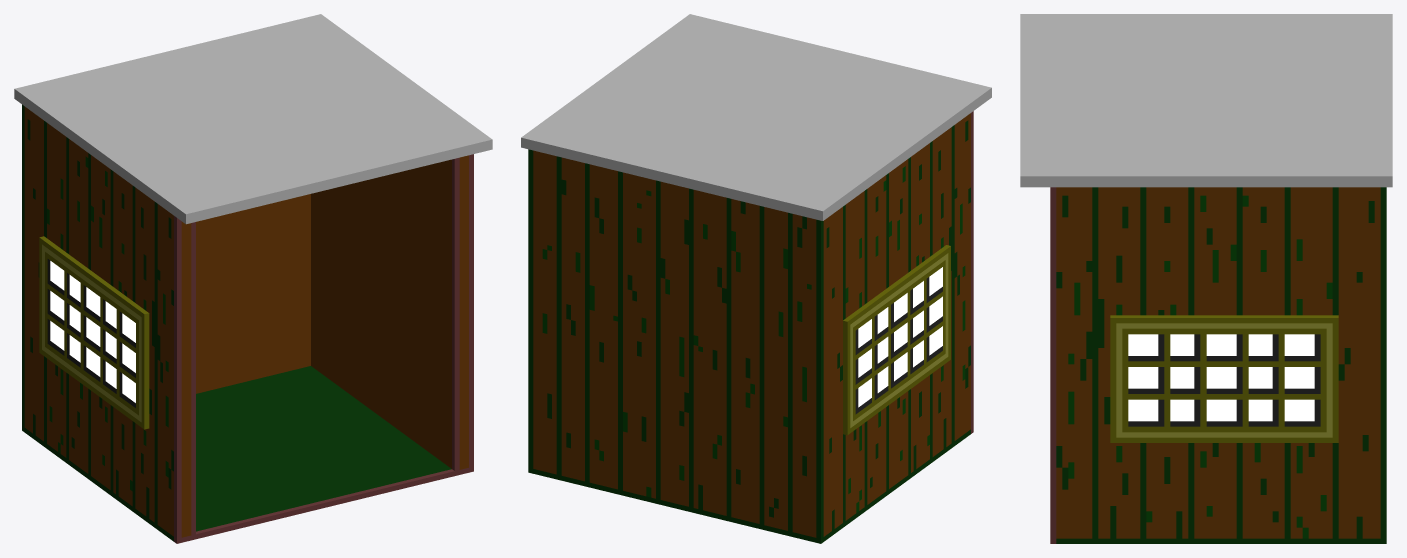
Rendered from typeEight.glb.
3 views of the same model, side by side, from view 1: azimuth 30°, elevation 25°; view 2: azimuth 150°, elevation 25°; view 3: azimuth 270°, elevation 25° (orthographic). The views are drawn at different scales.
Visible parts, largest first — view 1: ObjObject; view 2: ObjObject; view 3: ObjObject.
Part boxes in pixels (x1,y1,x2,y2): ObjObject: [14, 14, 492, 543]; ObjObject: [521, 14, 991, 543]; ObjObject: [1020, 14, 1392, 543].
Size of the model in its own units: 6.4 by 6.8 by 6.2.
2 materials, 1 textured.
